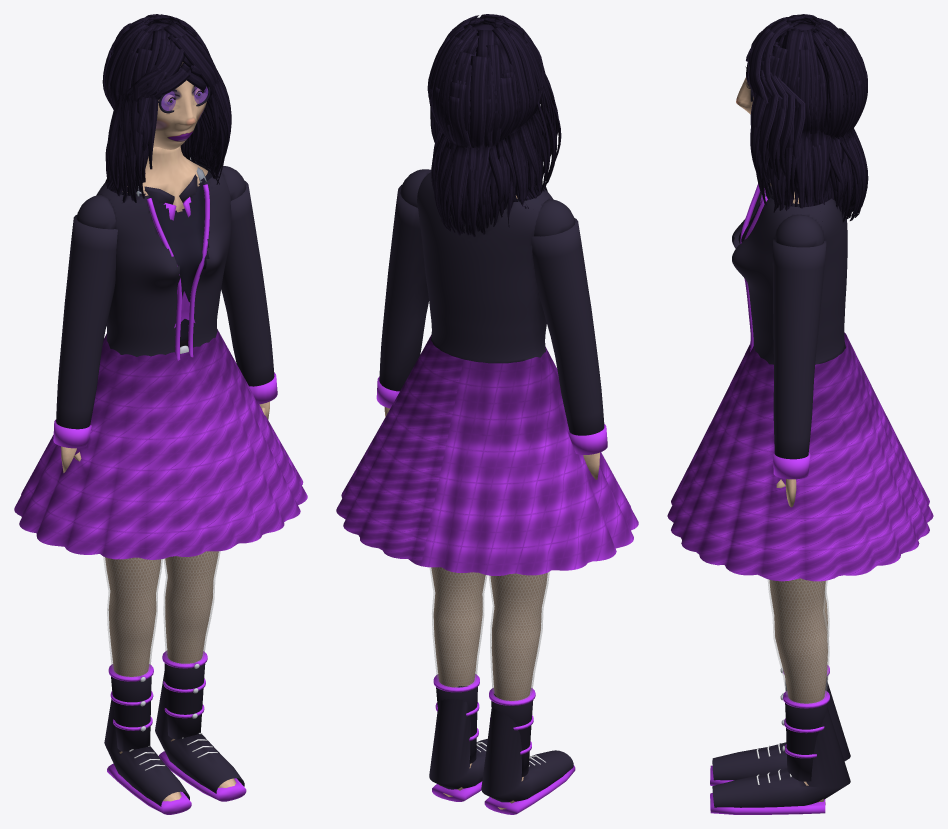
Rendered from panenka-rocker.glb.
The picture shows the model from 3 angles, left to right: view 1: azimuth 30°, elevation 25°; view 2: azimuth 150°, elevation 25°; view 3: azimuth 270°, elevation 25°; orthographic projection. The views are drawn at different scales.
Parts seen in each view (by area): view 1: skirt, jacket, jacket_sleeve, jacket_sleeve.001, fishnet, leg, fishnet.001, leg.001, tee, shoe.001, shoe, shaft.001 (+19 smaller); view 2: skirt, jacket, jacket_sleeve, jacket_sleeve.001, fishnet, leg, fishnet.001, leg.001, shoe, shoe.001, lock.291, lock.192 (+16 smaller); view 3: skirt, jacket_sleeve.001, jacket, fishnet.001, leg.001, shoe.001, shoe, shaft.001, lock.169, jacket_shoulder.001, sole.001, lock.298 (+15 smaller).
Boxes of the visible parts, left/top/right/bottom form: skirt: left=14, top=329, right=307, bottom=559; jacket: left=96, top=160, right=231, bottom=356; jacket_sleeve: left=56, top=215, right=117, bottom=429; jacket_sleeve.001: left=221, top=181, right=274, bottom=386; fishnet: left=103, top=556, right=162, bottom=677; leg: left=105, top=557, right=160, bottom=676; fishnet.001: left=163, top=551, right=220, bottom=664; leg.001: left=165, top=551, right=218, bottom=663; tee: left=120, top=162, right=212, bottom=341; shoe.001: left=155, top=654, right=244, bottom=793; shoe: left=104, top=699, right=189, bottom=806; shaft.001: left=164, top=663, right=205, bottom=739; skirt: left=336, top=334, right=638, bottom=575; jacket: left=417, top=172, right=553, bottom=363; jacket_sleeve: left=531, top=218, right=604, bottom=435; jacket_sleeve.001: left=379, top=185, right=428, bottom=391; fishnet: left=489, top=571, right=549, bottom=701; leg: left=490, top=573, right=547, bottom=700; fishnet.001: left=429, top=567, right=487, bottom=687; leg.001: left=431, top=567, right=485, bottom=687; shoe: left=481, top=694, right=573, bottom=802; shoe.001: left=429, top=686, right=487, bottom=789; lock.291: left=466, top=56, right=488, bottom=237; lock.192: left=492, top=26, right=529, bottom=204; skirt: left=667, top=332, right=933, bottom=581; jacket_sleeve.001: left=772, top=239, right=826, bottom=459; jacket: left=732, top=192, right=847, bottom=364; fishnet.001: left=768, top=578, right=829, bottom=703; leg.001: left=769, top=578, right=827, bottom=703; shoe.001: left=712, top=707, right=850, bottom=807; shoe: left=712, top=681, right=850, bottom=780; shaft.001: left=785, top=703, right=827, bottom=781; lock.169: left=759, top=19, right=790, bottom=182; jacket_shoulder.001: left=775, top=214, right=823, bottom=247; sole.001: left=710, top=793, right=825, bottom=814; lock.298: left=781, top=30, right=806, bottom=205.
Size of the model in its own units: 0.7231 by 2 by 0.621.
Materials: 23 (7 with a texture image).
